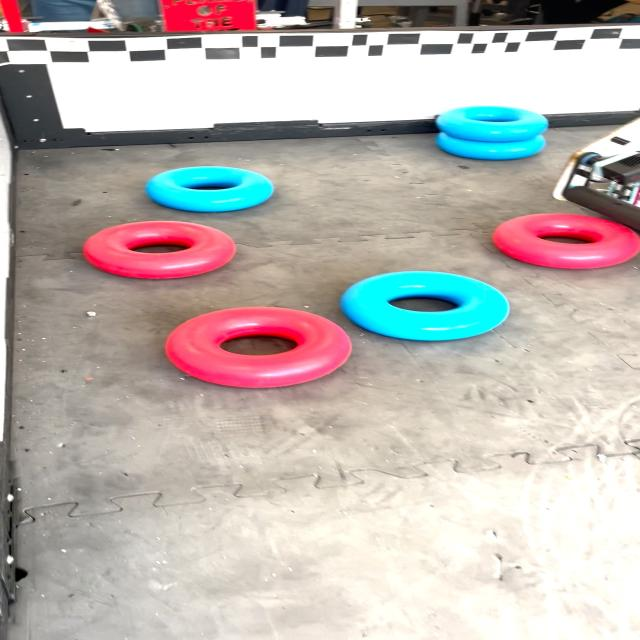Blue-Ring: (340, 271, 509, 341), (147, 166, 273, 212), (436, 106, 549, 142), (436, 132, 547, 160)
Red-Ring: (164, 308, 351, 388), (82, 221, 236, 279), (493, 214, 640, 269)
